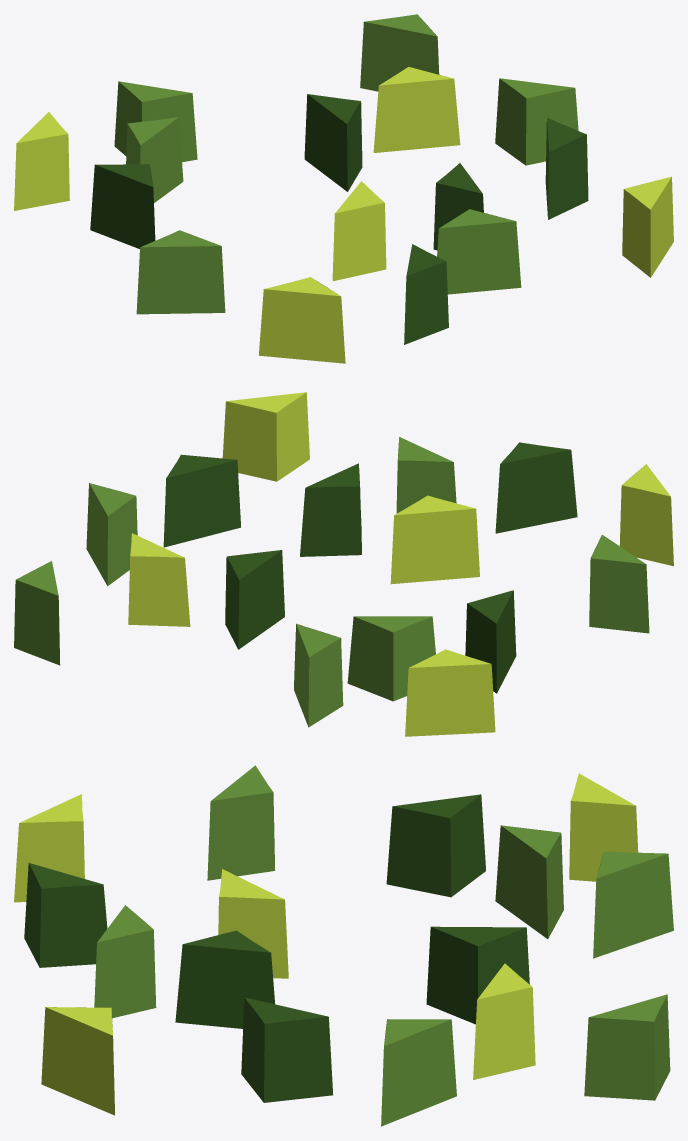
File: niidetud.fbx
The picture shows the model from 3 angles, top to bottom: view 1: azimuth 30°, elevation 25°; view 2: azimuth 150°, elevation 25°; view 3: azimuth 270°, elevation 25°; orthographic projection. The views are drawn at different scales.
Visible parts, largest first — view 1: mur4.003; view 2: mur4.003; view 3: mur4.003.
Part boxes in pixels (box(x1,y1,x2,y2)): mur4.003: box(14, 14, 673, 363); mur4.003: box(14, 392, 673, 736); mur4.003: box(14, 765, 673, 1126).
Bounding box in the file's own units: 95.69 × 12.25 × 93.59.
